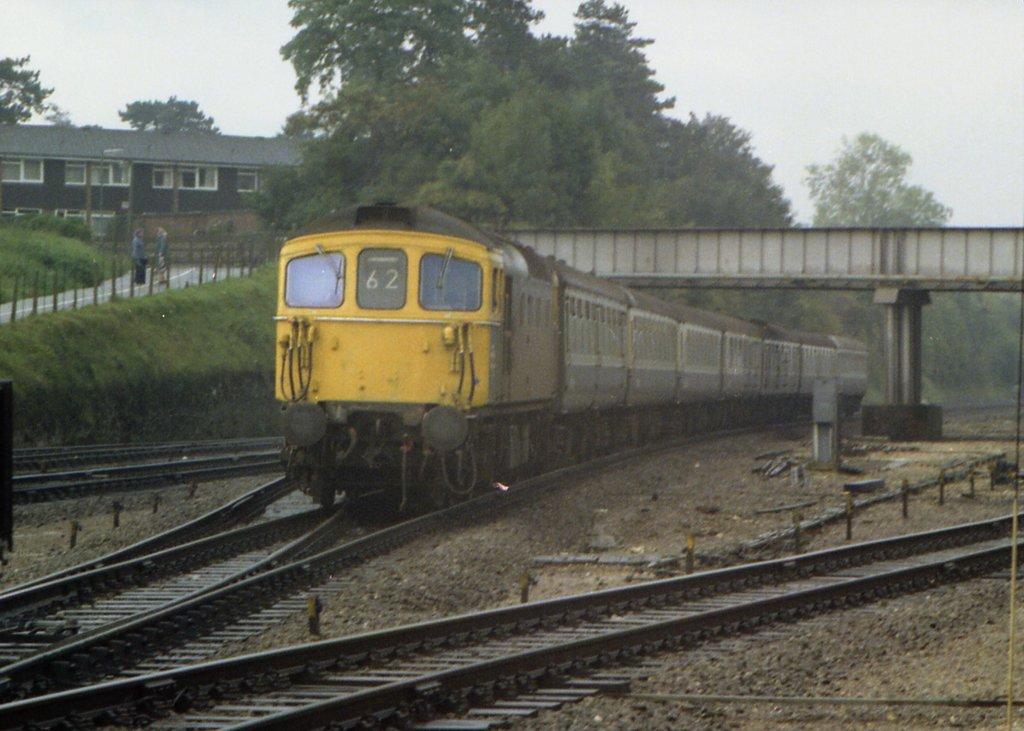Tree: (248, 0, 801, 236), (800, 114, 949, 226), (0, 46, 62, 125), (119, 94, 219, 133)
